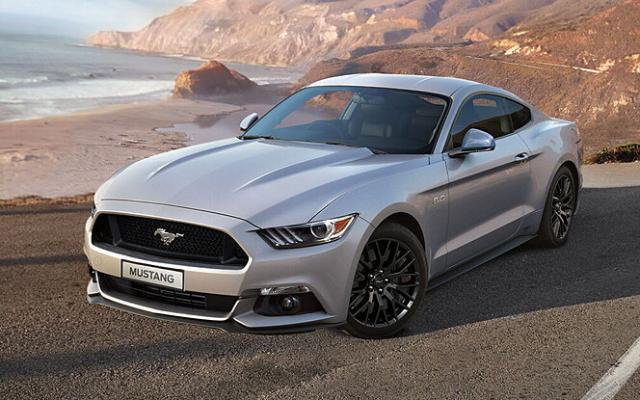ford-mustang: (83, 73, 583, 340)
